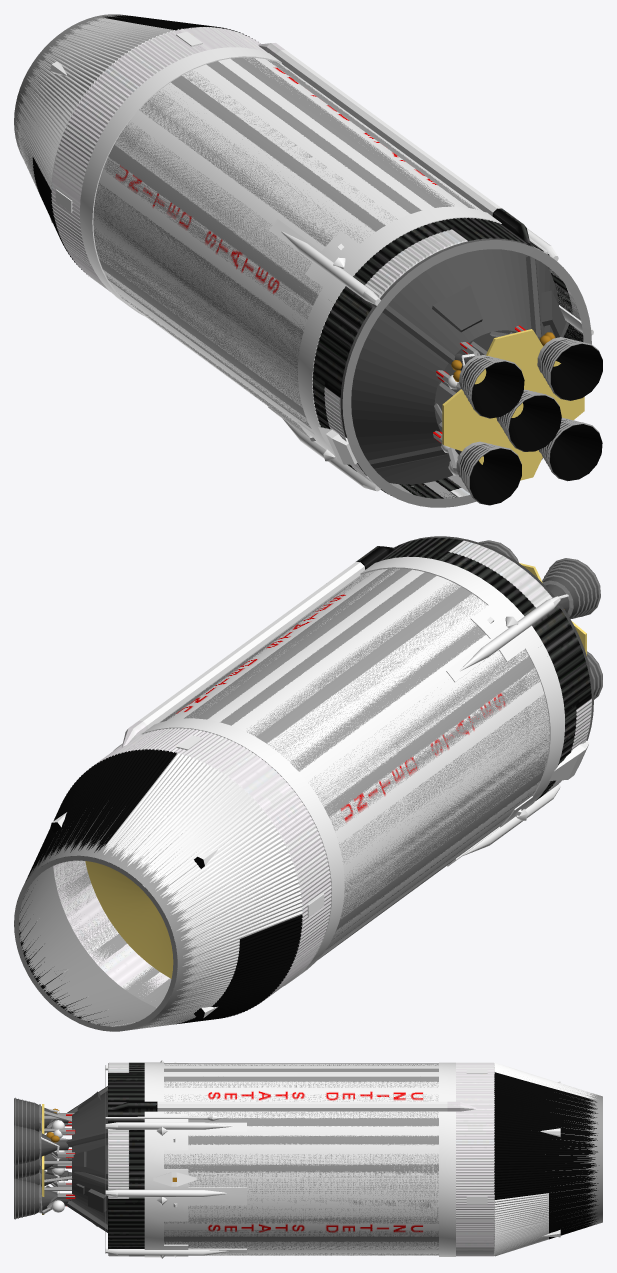
File: s2_stretch41.obj
3 renders of one model, top to bottom at view 1: azimuth 30°, elevation 25°; view 2: azimuth 150°, elevation 25°; view 3: azimuth 270°, elevation 25°, orthographic. The views are drawn at different scales.
Visible parts, largest first — view 1: group2378, group2642, group1264, group2691, group2643, group1090, group1093, group1092, group1089, group1091, group2645, group1256 (+5 smaller); view 2: group2378, group2642, group2645, group1264, group2694, group2644, group2638, group1256, group1258, group2643; view 3: group2378, group2642, group1264, group2645, group2640, group2637, group1259, group1257, group2638, group1255, group2641, group2636 (+5 smaller).
Boxes of the visible parts, box(x1,y1,x2,y2) form: group2378: box(51, 27, 583, 498); group2642: box(94, 57, 582, 498); group1264: box(79, 47, 559, 486); group2691: box(444, 330, 584, 480); group2643: box(342, 240, 591, 507); group1090: box(550, 424, 602, 480); group1093: box(551, 343, 602, 400); group1092: box(470, 448, 521, 505); group1089: box(509, 395, 561, 451); group1091: box(472, 361, 524, 418); group2645: box(14, 14, 131, 158); group1256: box(281, 231, 380, 305); group2378: box(53, 537, 591, 1007); group2642: box(53, 568, 549, 1007); group2645: box(19, 798, 239, 1030); group1264: box(113, 556, 564, 985); group2694: box(85, 861, 173, 978); group2644: box(14, 855, 177, 1031); group2638: box(543, 559, 600, 618); group1256: box(459, 596, 560, 671); group1258: box(461, 784, 560, 856); group2643: box(398, 536, 593, 740); group2378: box(108, 1062, 494, 1256); group2642: box(164, 1063, 438, 1255); group1264: box(144, 1062, 455, 1257); group2645: box(545, 1092, 602, 1226); group2640: box(14, 1125, 73, 1165); group2637: box(14, 1178, 71, 1218); group1259: box(105, 1189, 226, 1197); group1257: box(105, 1122, 233, 1129); group2638: box(14, 1098, 68, 1131); group1255: box(105, 1248, 231, 1255); group2641: box(44, 1111, 72, 1190); group2636: box(14, 1153, 71, 1178).
Bounding box in the file's own units: 10.48 × 10.22 × 30.85.
Materials: 9 (1 with a texture image).
